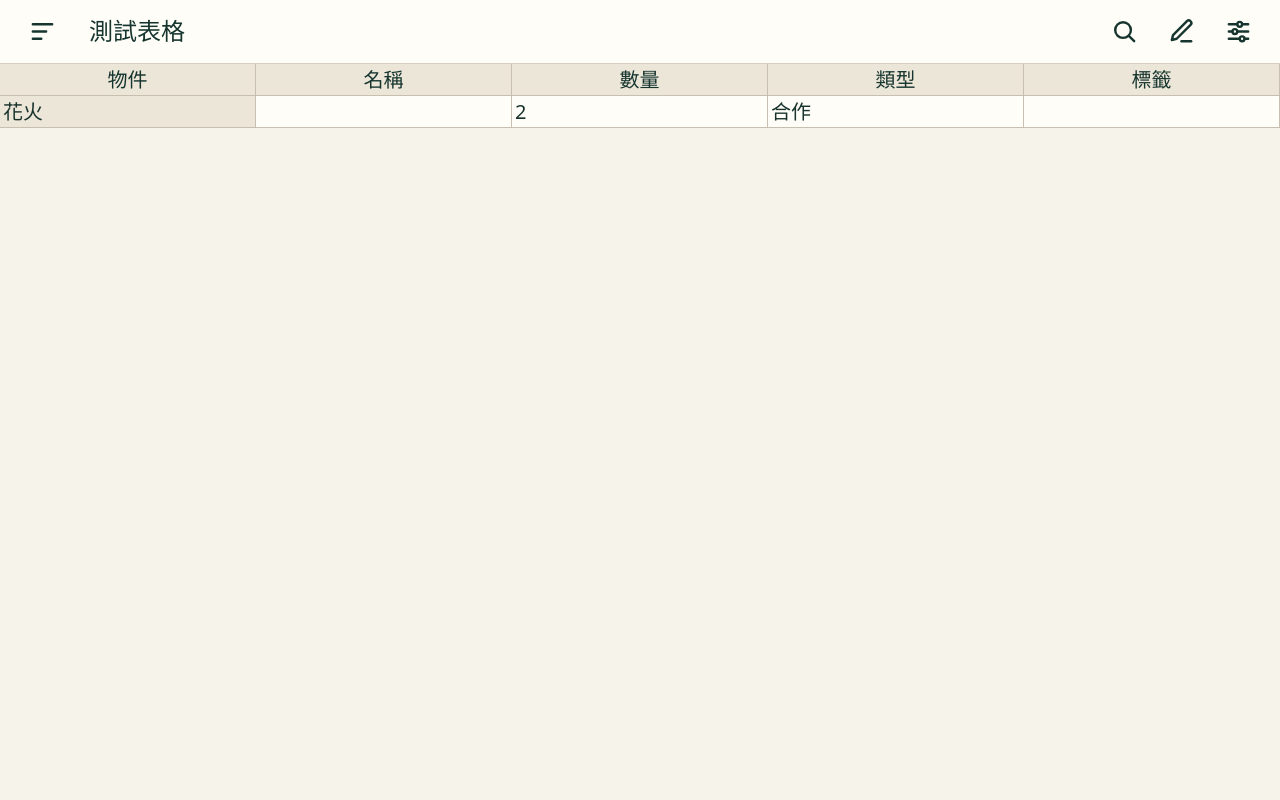
Test case: WorkspacePage.navigation › offers move-to instead of an already implicit open-table action
What coordinates should you click on to do the following:
click the button named "開啟目錄"
I would click on:
 (42, 32)
Its box is [18,8,66,56].
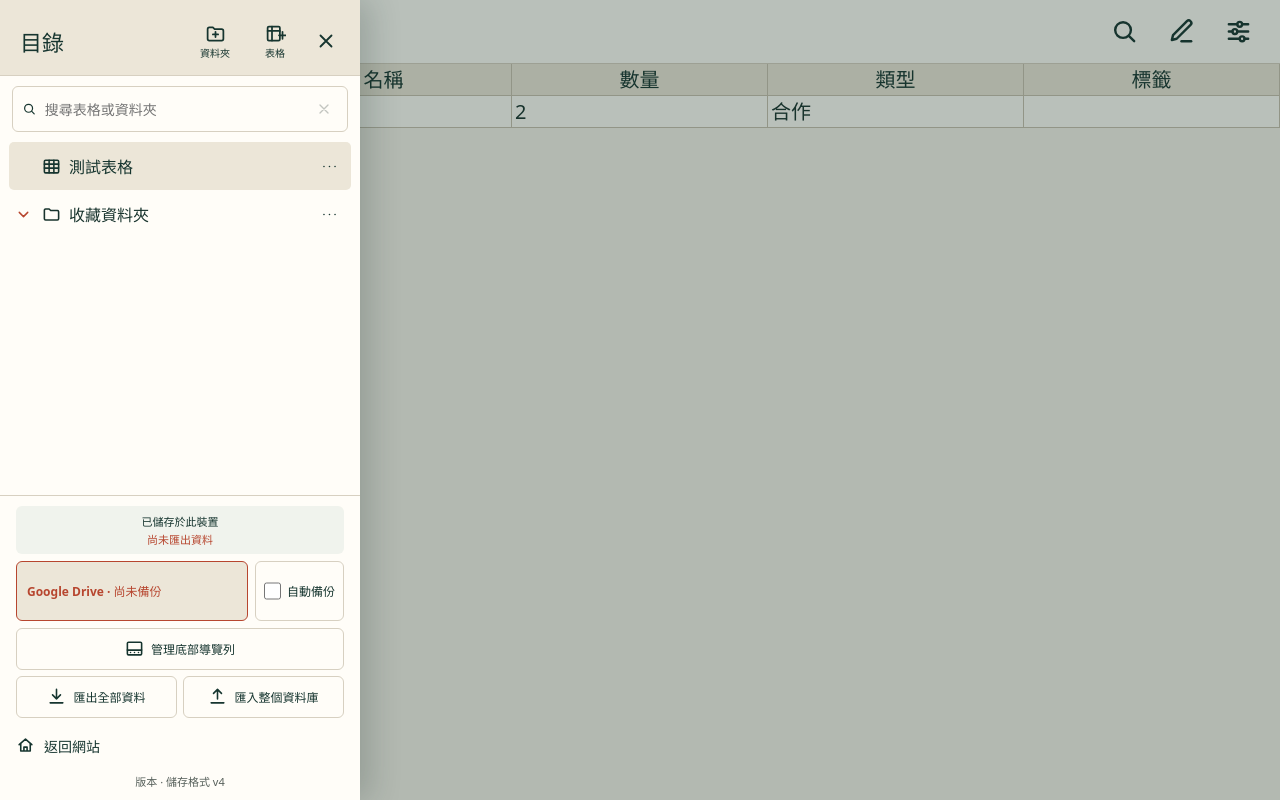
What coordinates should you click on to do the following:
click the button named "開啟測試表格操作"
I would click on:
 (329, 166)
Its box is [309,144,349,188].
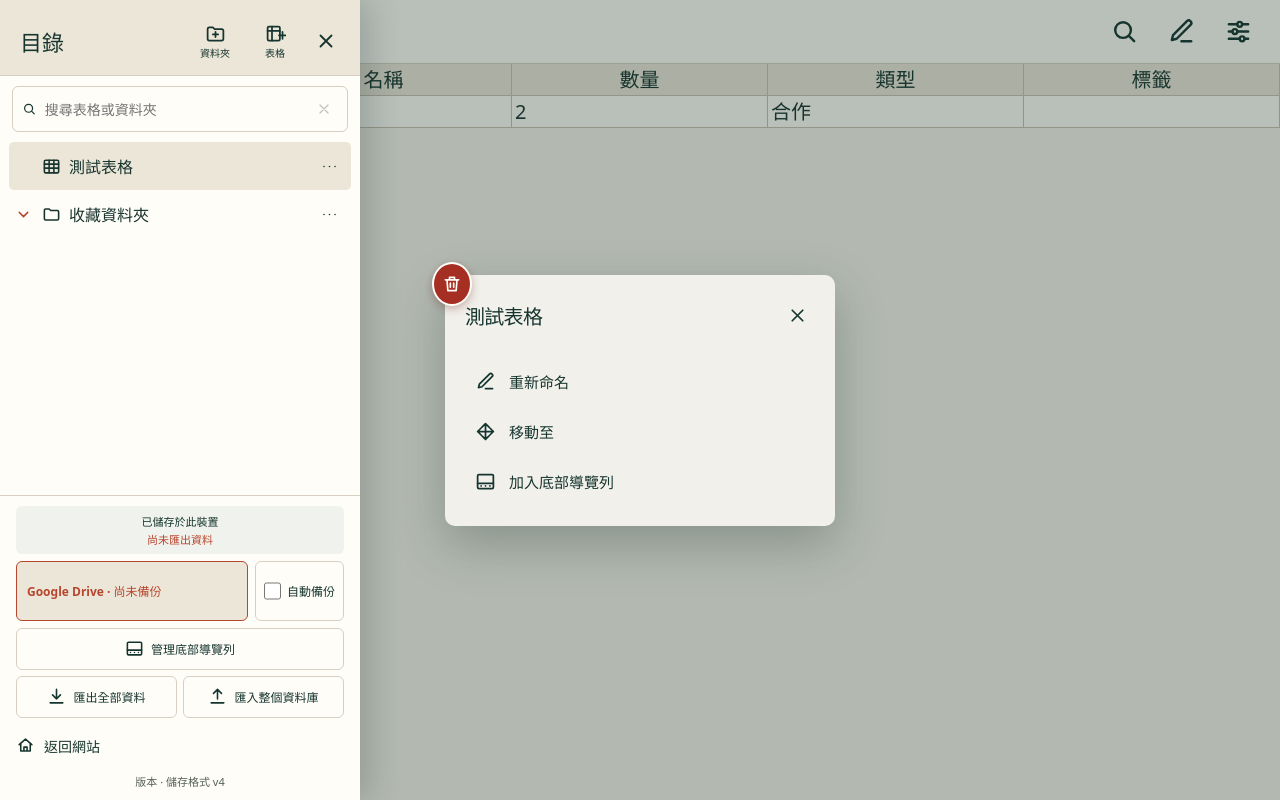
What coordinates should you click on to do the following:
click the button "移動至"
I would click on:
 (532, 432)
Its box is [465,408,815,456].
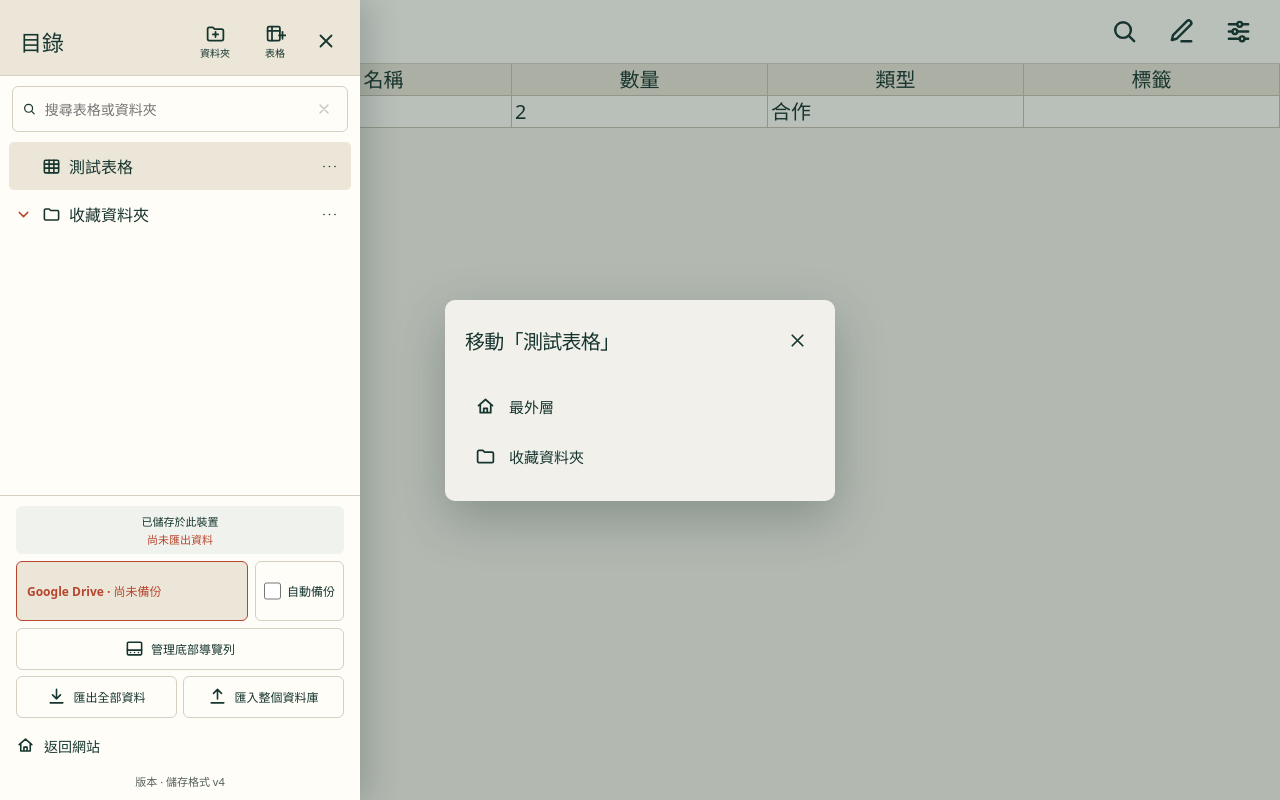
Now the button "收藏資料夾" is shown, box [465,432,815,480]
